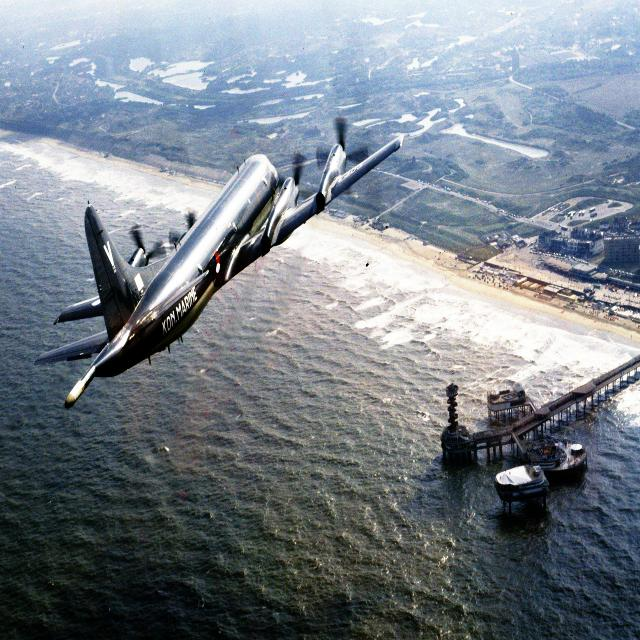Aircraft: (34, 92, 406, 427)
